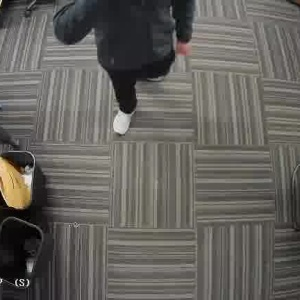person: (85, 0, 180, 137)
